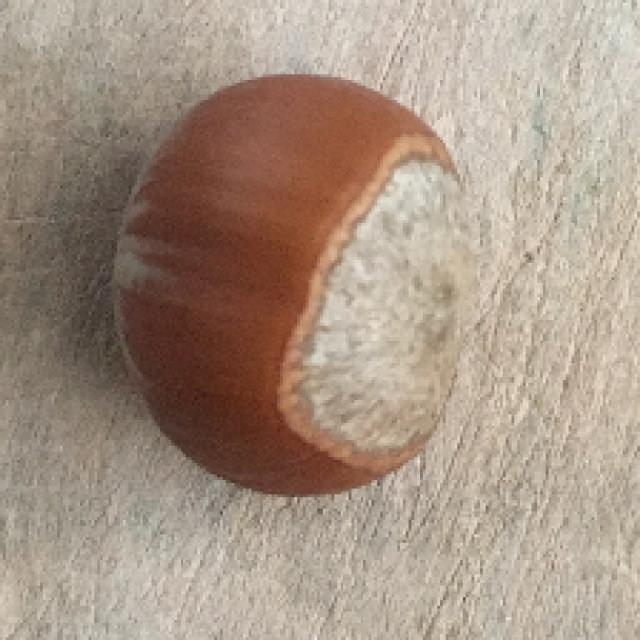qualityHazelnut: (112, 53, 474, 510)
